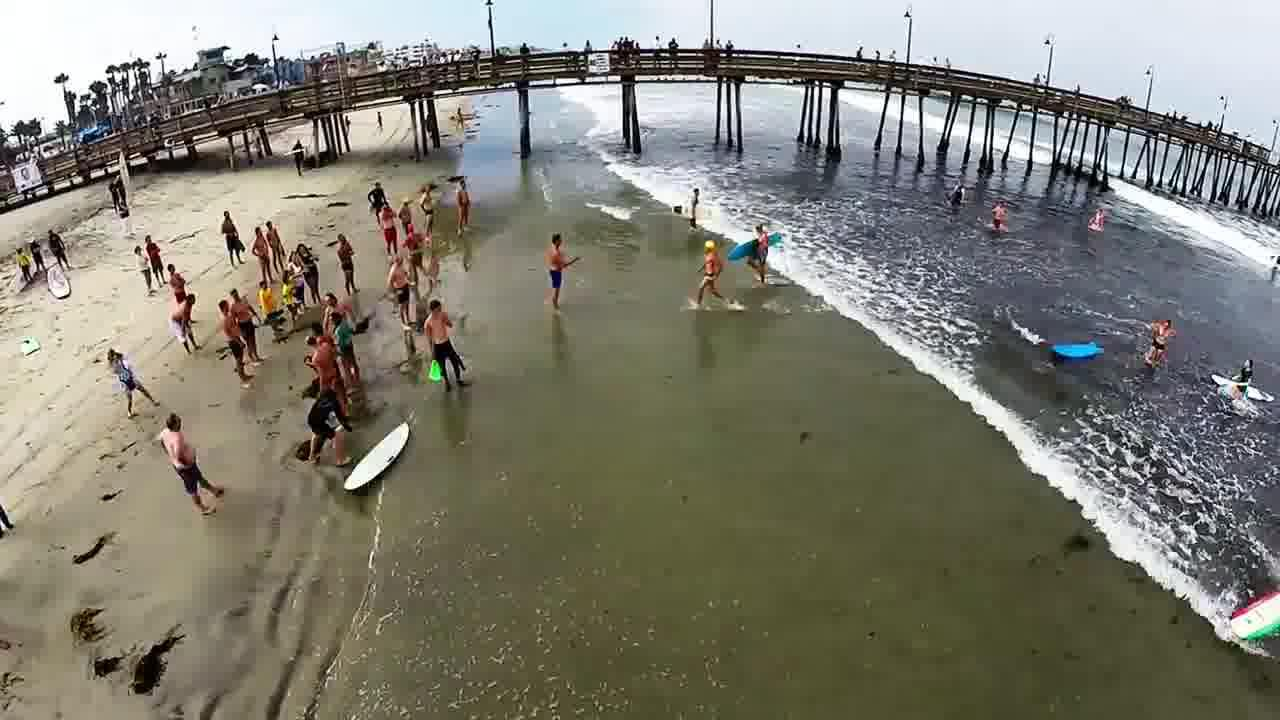human: (1148, 304, 1173, 358), (986, 194, 1011, 235), (1086, 208, 1112, 232), (945, 176, 962, 205)
